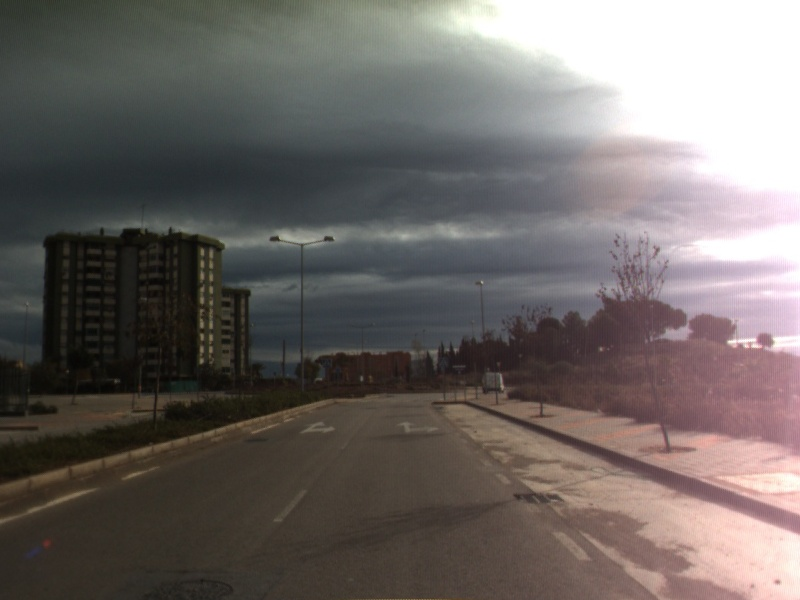STRAIGHT_RIGHT: (395, 419, 441, 435), (297, 419, 337, 435)
